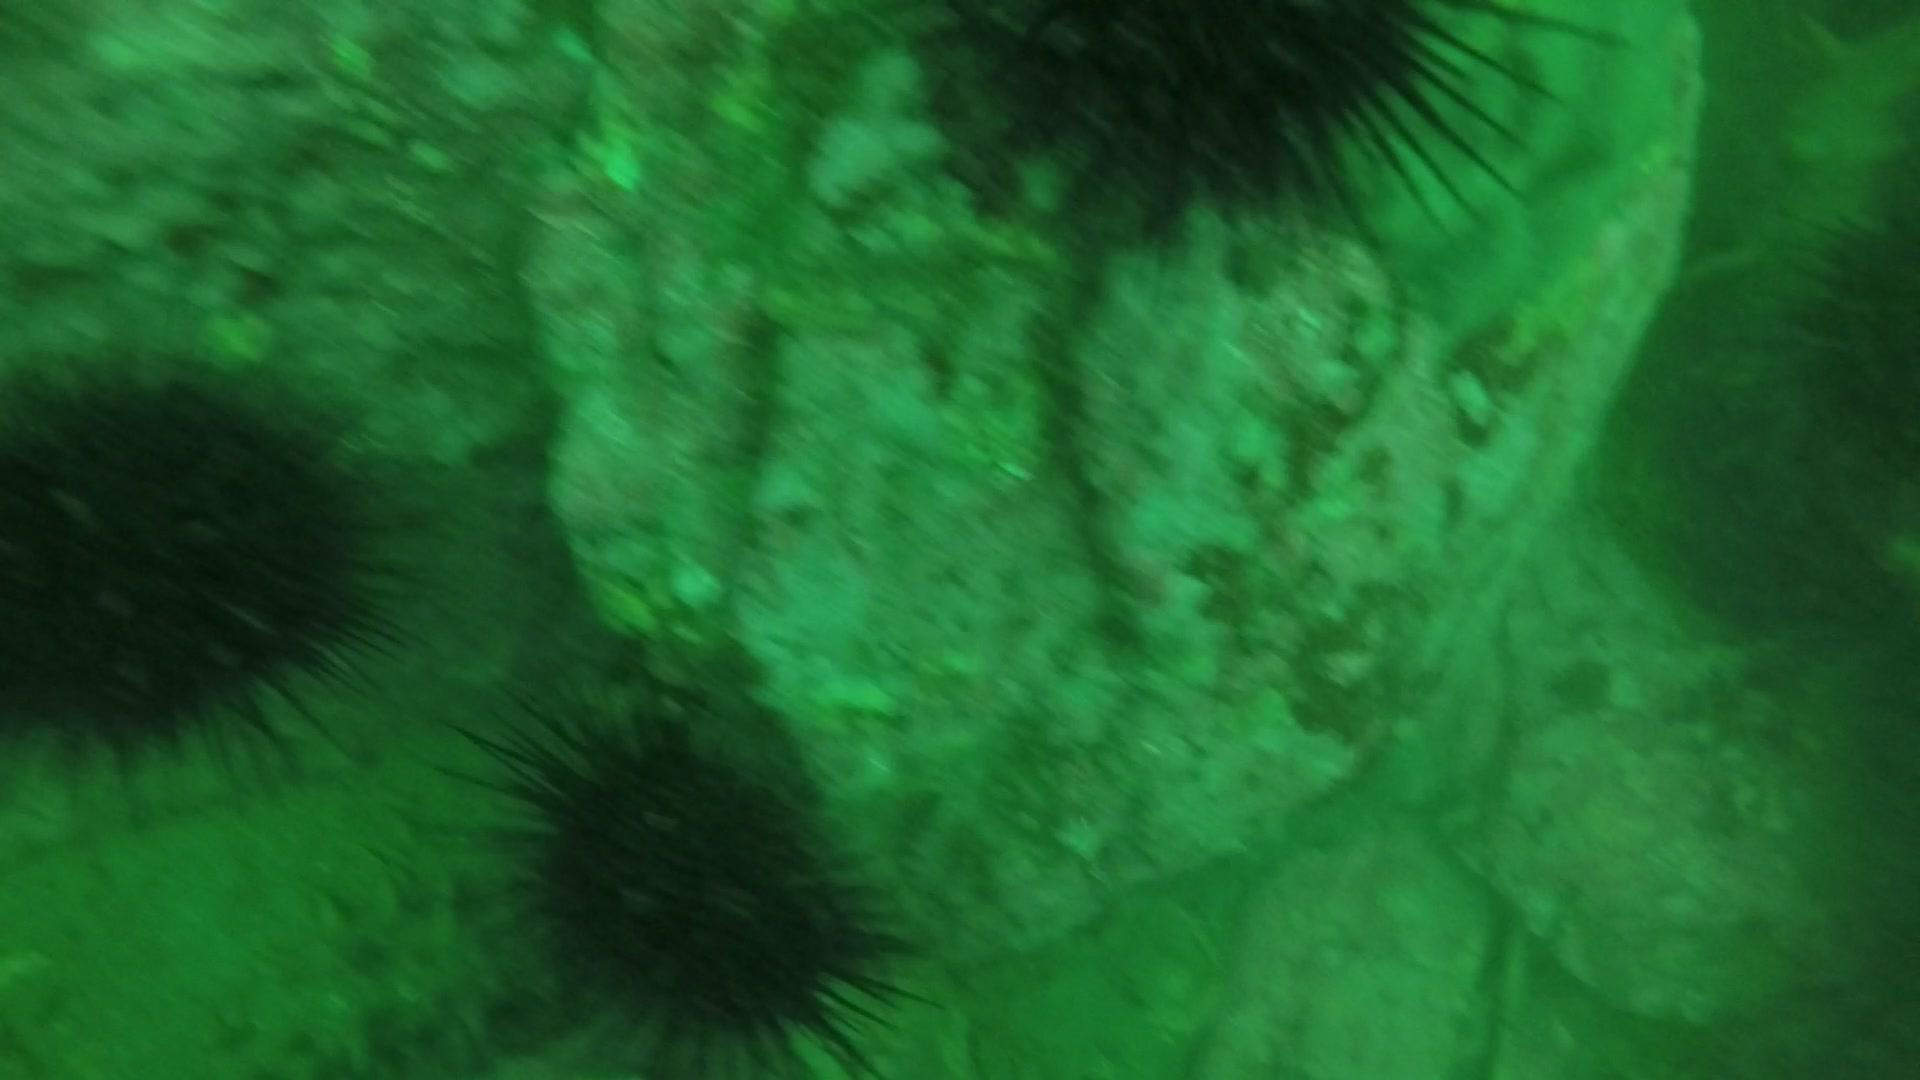urchin: (3, 338, 411, 796), (902, 4, 1519, 266), (495, 680, 898, 1059), (1800, 138, 1920, 406)
